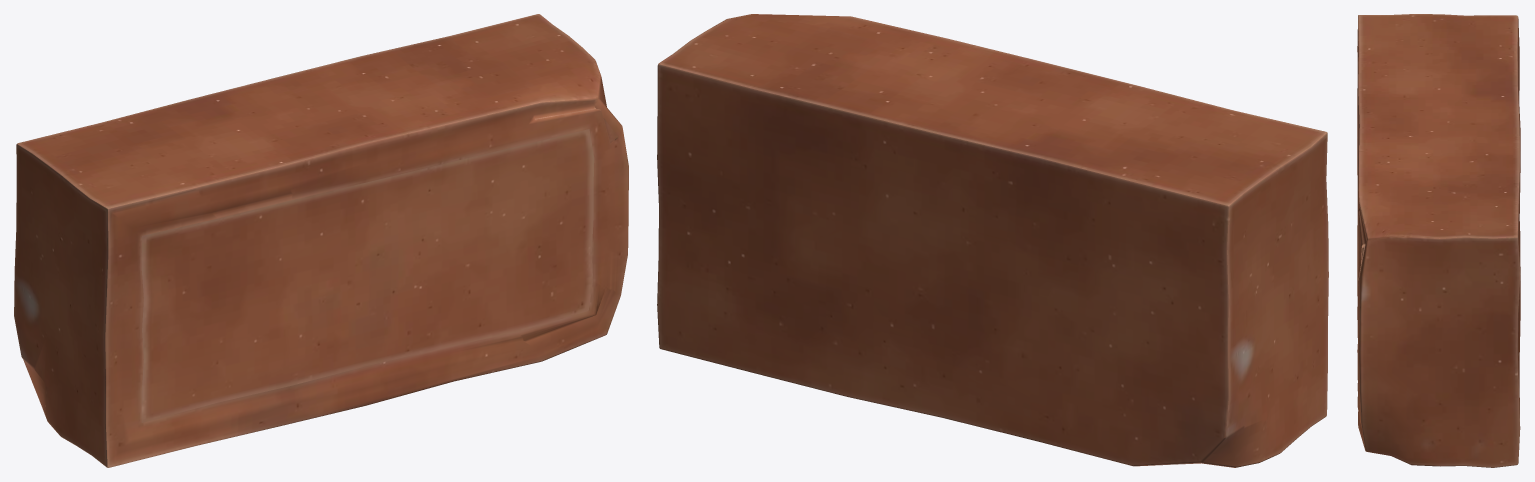
File: brick.glb
The picture shows the model from 3 angles, left to right: view 1: azimuth 30°, elevation 25°; view 2: azimuth 150°, elevation 25°; view 3: azimuth 270°, elevation 25°; orthographic projection. The views are drawn at different scales.
Visible parts, largest first — view 1: brick; view 2: brick; view 3: brick.
Part boxes in pixels (<box>): brick: <box>14,14,628,467</box>; brick: <box>657,14,1328,467</box>; brick: <box>1357,14,1520,467</box>.
Size of the model in its own units: 0.2161 by 0.1036 by 0.0662.
1 material, 1 textured.
